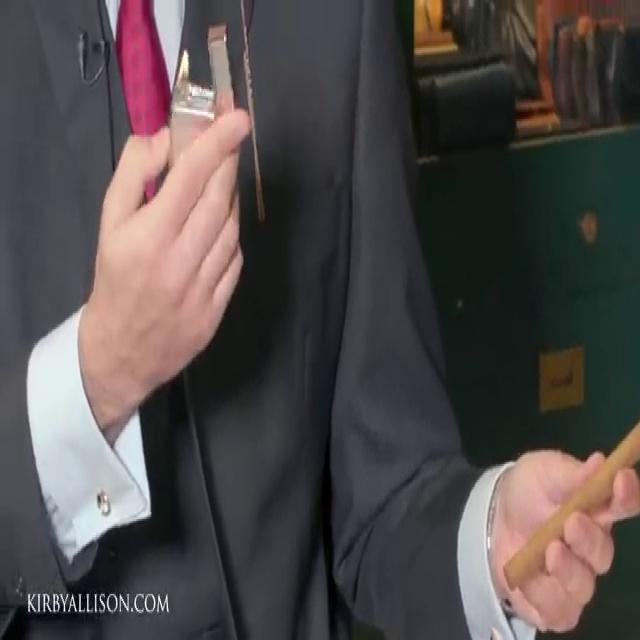Smooking: (486, 359, 640, 619)
